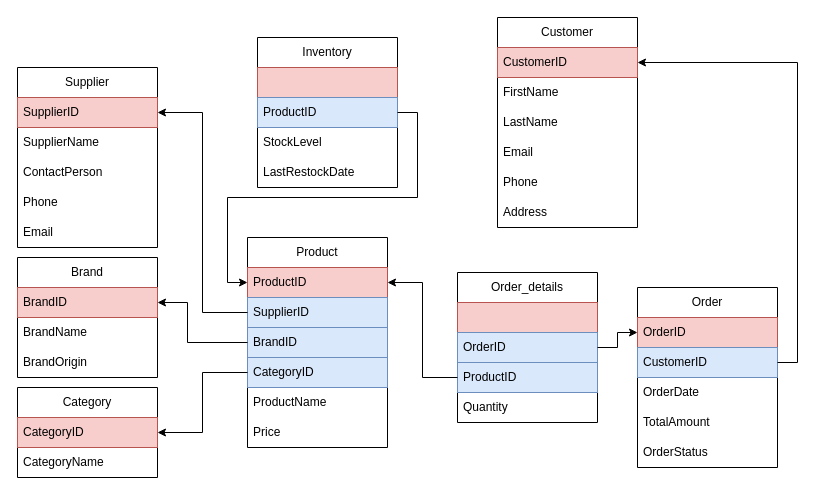
Image size: 823x495. Some labels were removed from this diagram. Each missing label, with the centre of its shape:
InventoryID: (327,82)
OrderDetailID: (527,317)
